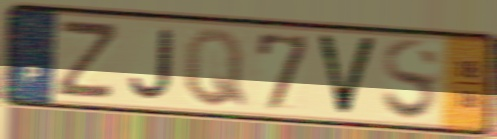7: (253, 31, 311, 112)
J: (127, 27, 174, 102)
Q: (183, 26, 249, 110)
S: (380, 36, 441, 124)
V: (312, 31, 381, 120)
Z: (52, 20, 122, 102)
